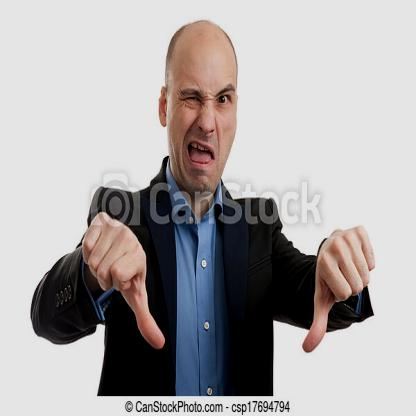Thumbs Down: (80, 194, 170, 366), (308, 210, 383, 370)
